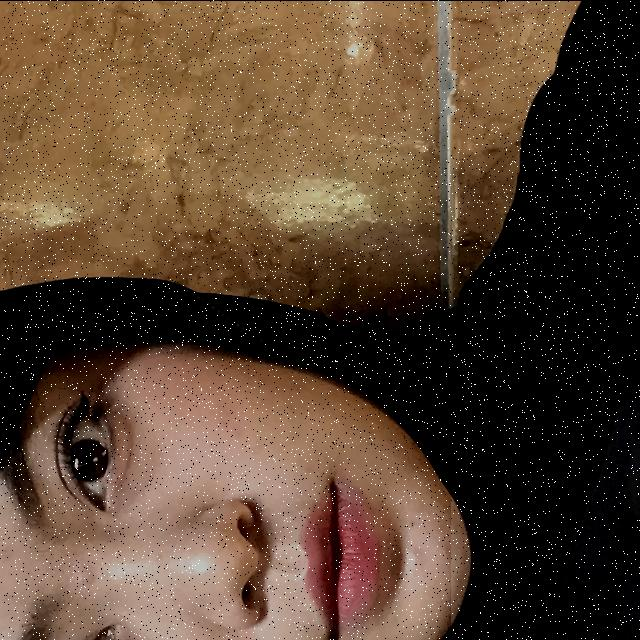kamu: (451, 405, 640, 640)
